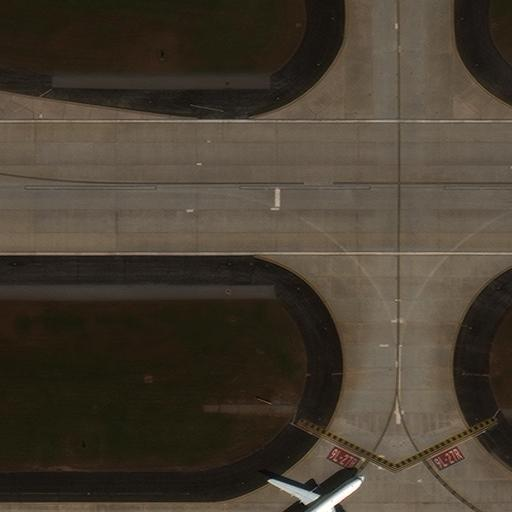Medium Civil Transport: (268, 476, 364, 512)
